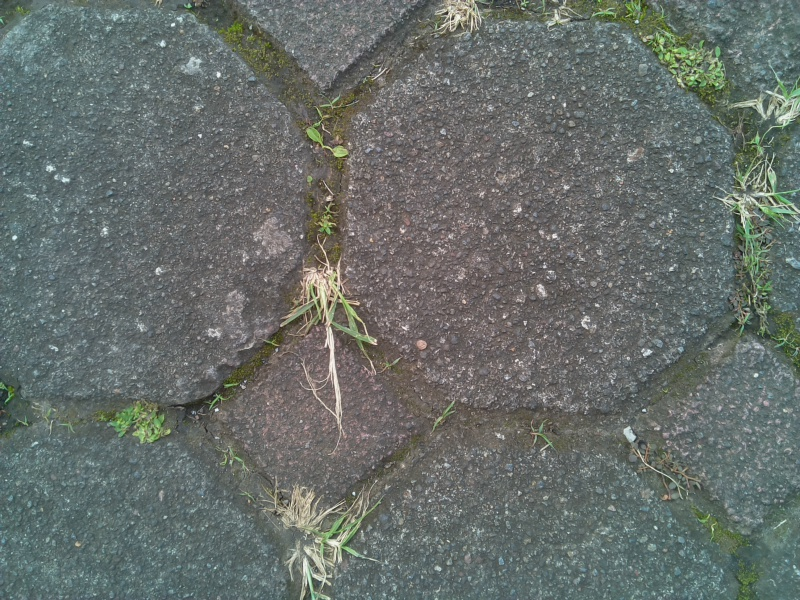Weed: (264, 483, 371, 599), (721, 154, 797, 253), (280, 266, 367, 348), (643, 31, 732, 99), (626, 430, 703, 498), (103, 396, 176, 451), (724, 261, 775, 333), (750, 77, 800, 134), (434, 1, 488, 39), (302, 120, 350, 162), (212, 439, 251, 475), (425, 396, 460, 431), (522, 418, 556, 451), (372, 353, 405, 379), (700, 509, 725, 543), (312, 203, 337, 236), (316, 89, 349, 113), (205, 389, 232, 412)
